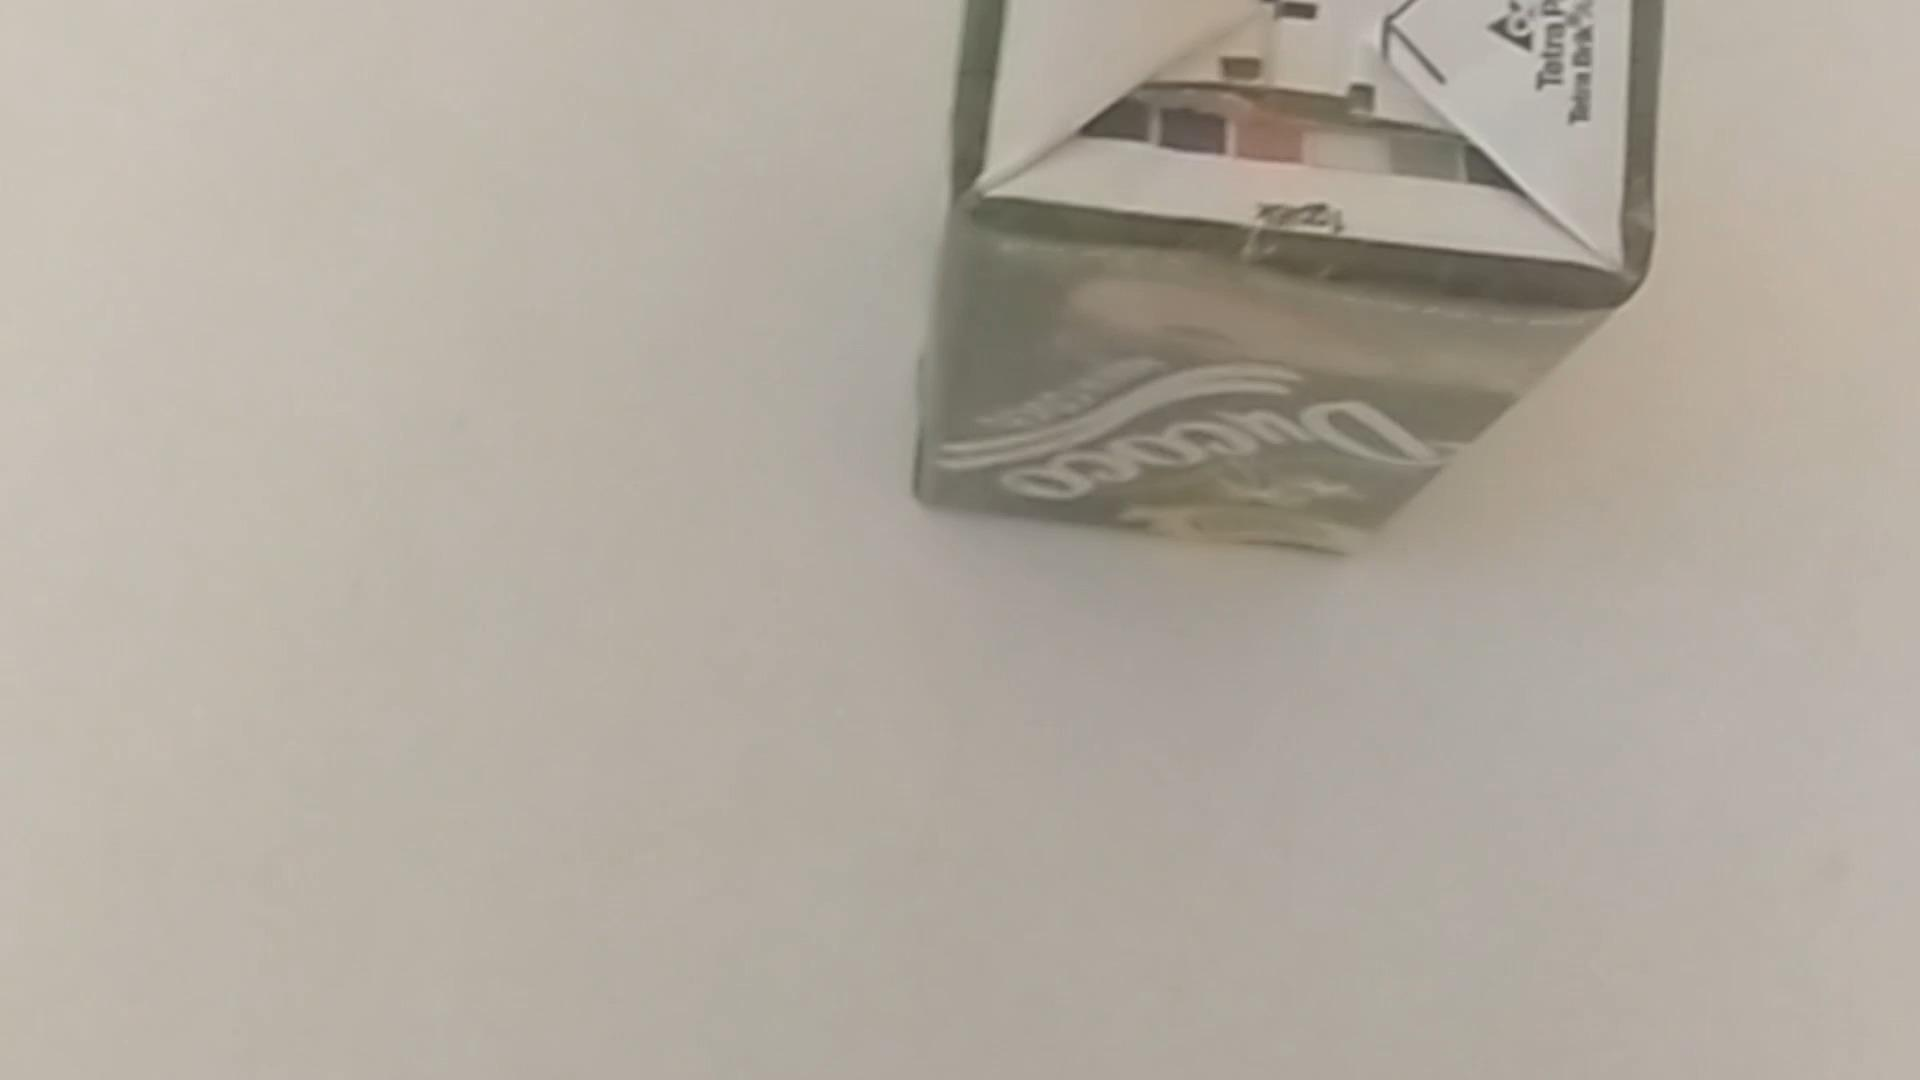coco: (913, 3, 1664, 555)
